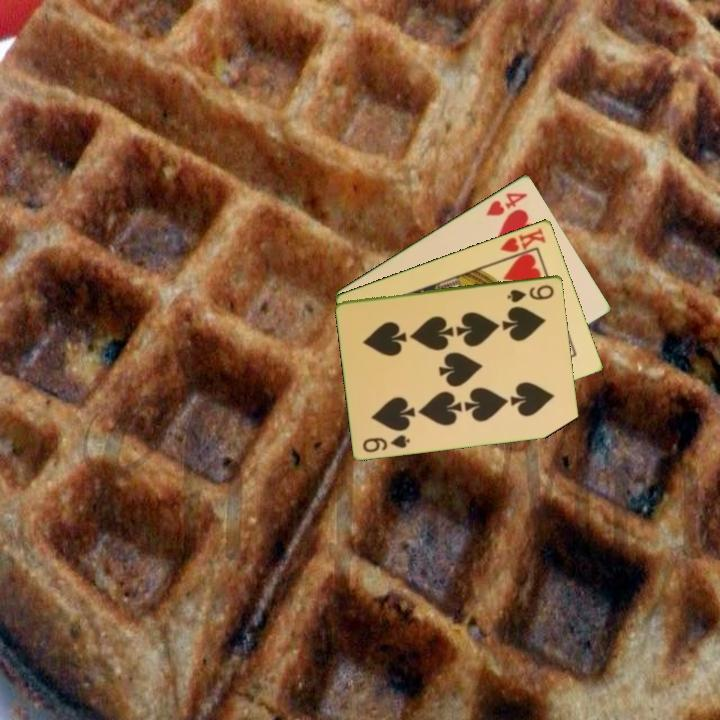4h: (482, 189, 530, 219)
9s: (359, 431, 413, 455), (504, 281, 557, 305)
Kh: (497, 223, 549, 262)
